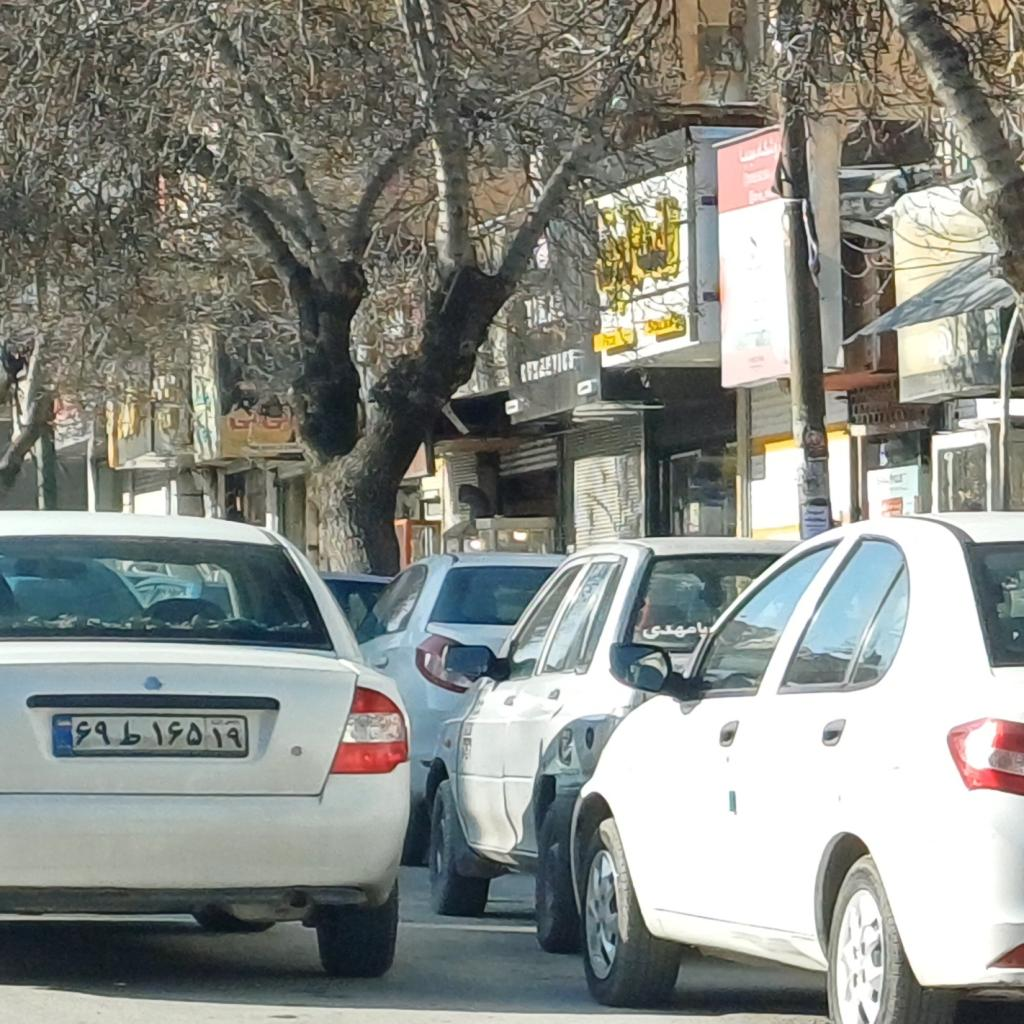Plates: (54, 716, 246, 756)
